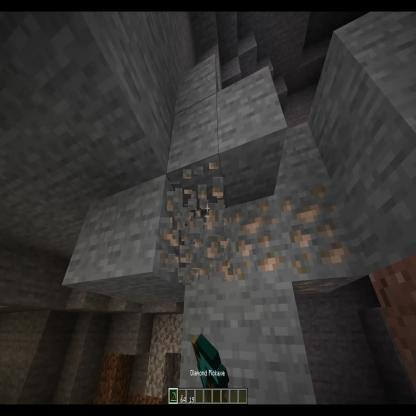iron ore: (276, 182, 360, 299), (226, 193, 288, 285), (184, 205, 229, 280)
